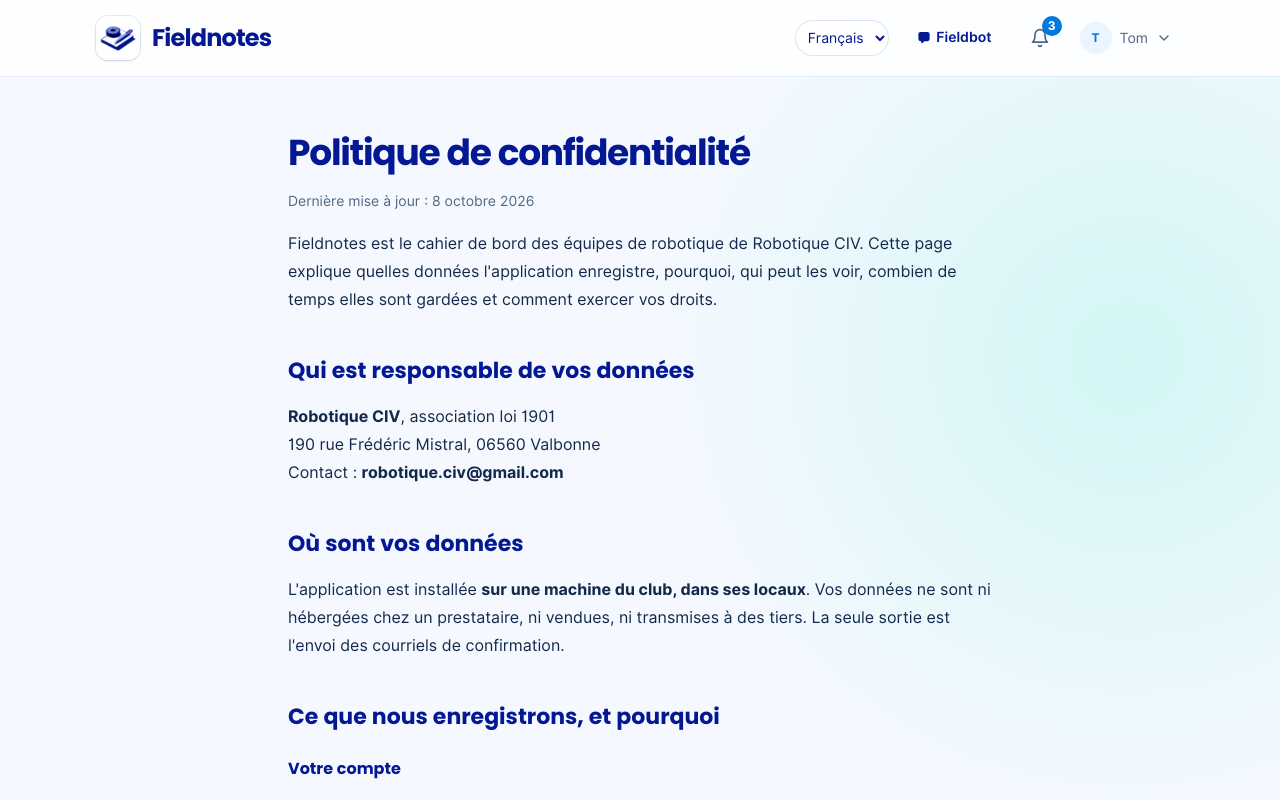
Test case: says what happened, by whom and where, and links to the work item
This screenshot has width=1280, height=800.
Click the button named "Notifications, 3 non lues".
click(1040, 38)  # box [1020,18,1060,58]
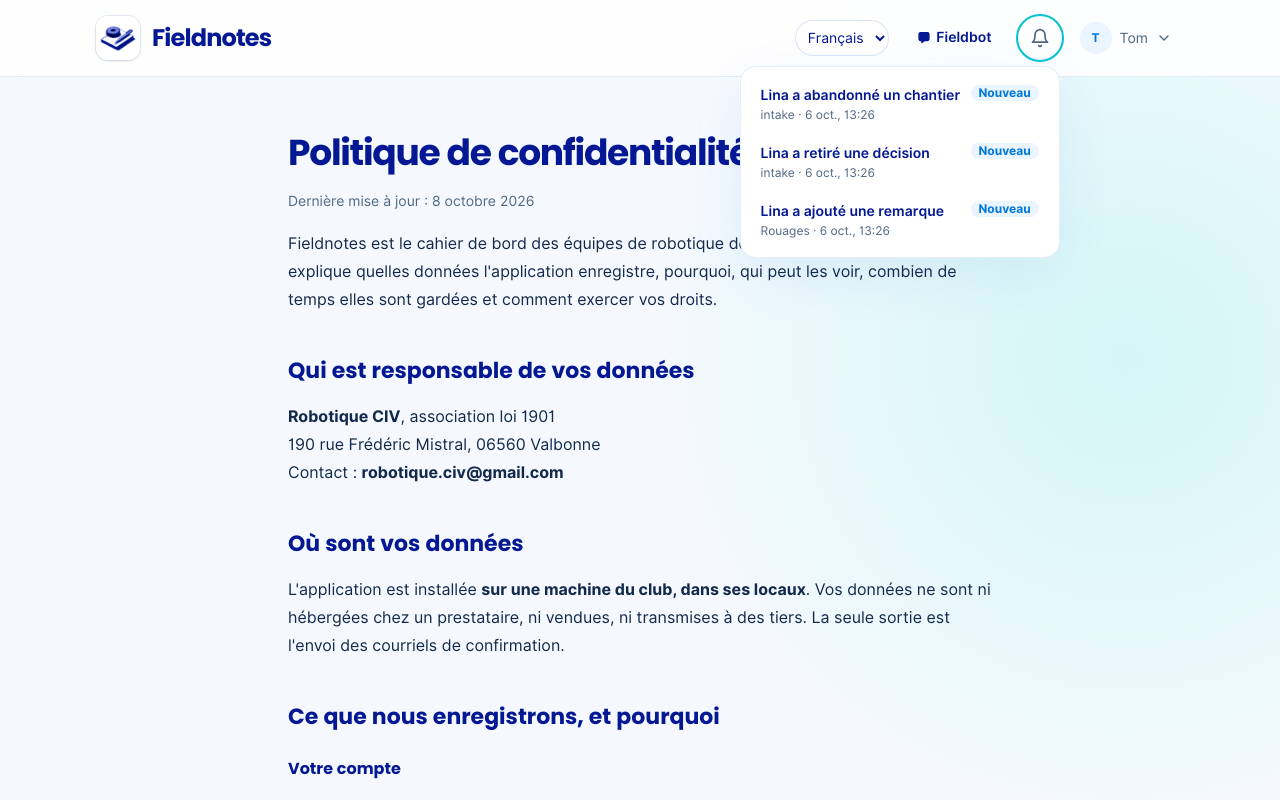
Now the list item "Lina a abandonné un chantier Nouveau intake · 6 oct., 13:26" is shown, box [749,75,1051,133]
Now the list item "Lina a retiré une décision Nouveau intake · 6 oct., 13:26" is shown, box [749,133,1051,191]
Now the list item "Lina a ajouté une remarque Nouveau Rouages · 6 oct., 13:26" is shown, box [749,191,1051,249]
